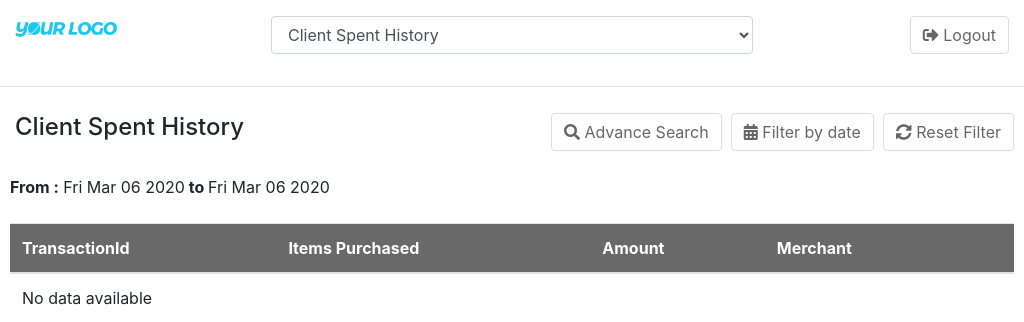
Selection › should change content on selecting an option
Select "Client Contact Management" in the dropdown with test id "select" at (512, 35), box x1=271 y1=16 x2=753 y2=54
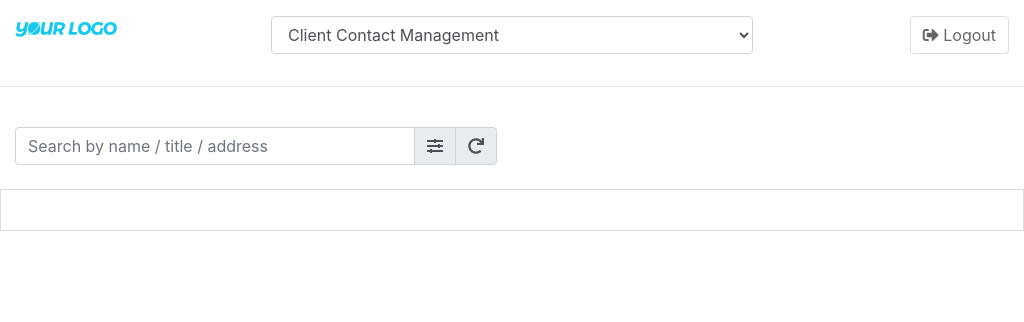
Now the 1st element with test id "clientContact" is shown, box x1=0 y1=103 x2=1023 y2=231
